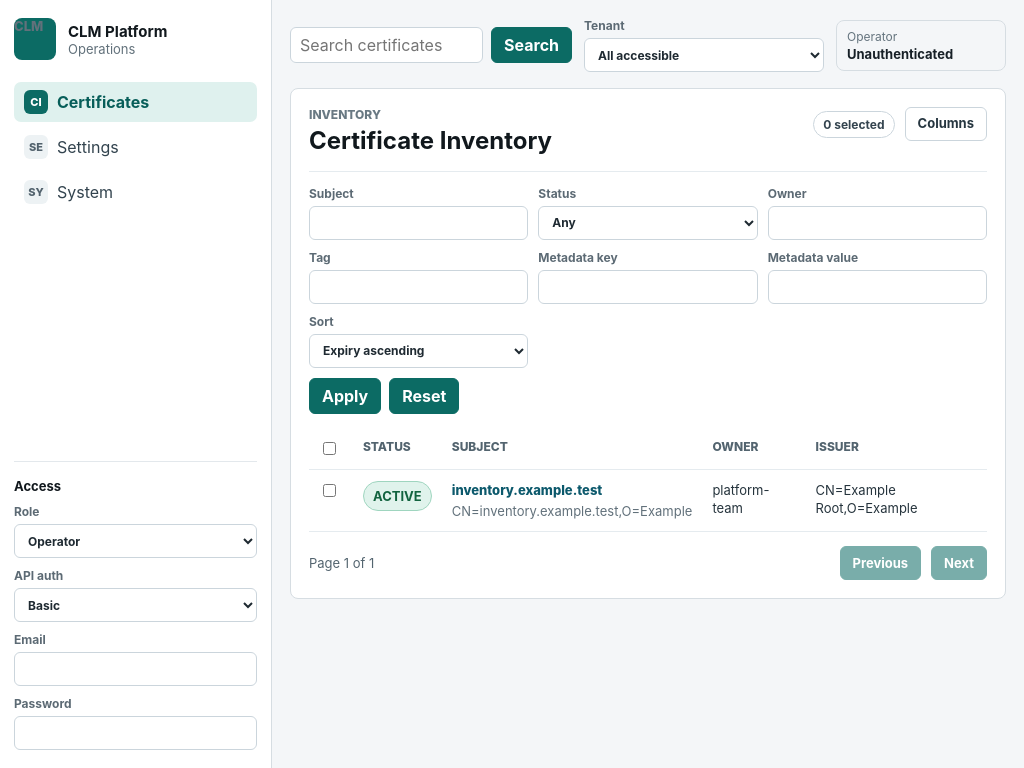
Test: App › applies inventory filters, sorting, pagination, and bulk selection
This screenshot has width=1024, height=768.
Check: the link "inventory.example.test" is shown, box left=452, top=481, right=602, bottom=499
Type "inventory" into the field labelled "Subject" at {"x": 419, "y": 223}, box left=309, top=206, right=528, bottom=240
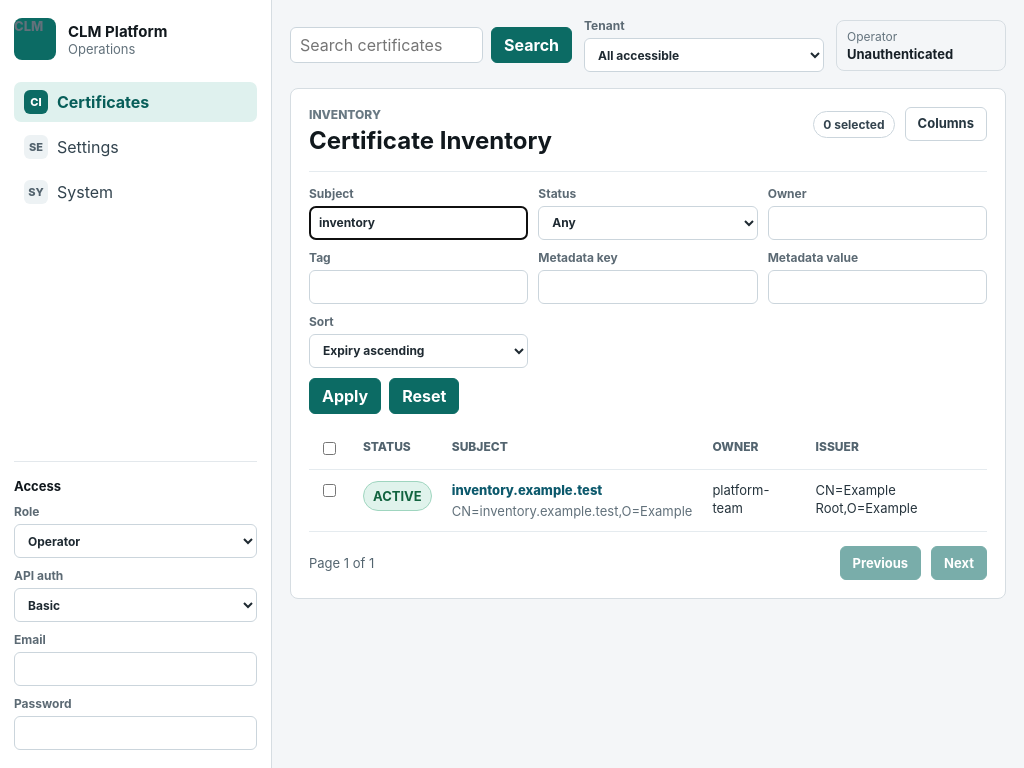
Select "Active" in the dropdown labelled "Status" at {"x": 648, "y": 223}, box left=538, top=206, right=758, bottom=240
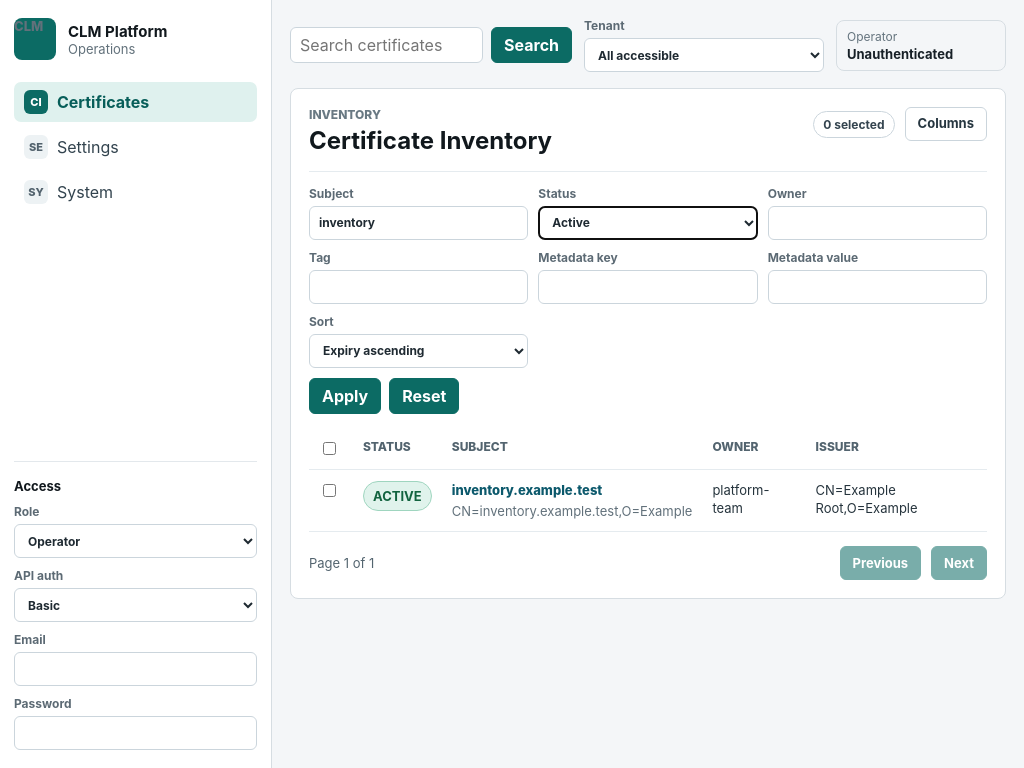
Type "prod" into the field labelled "Tag" at {"x": 419, "y": 287}, box left=309, top=270, right=528, bottom=304
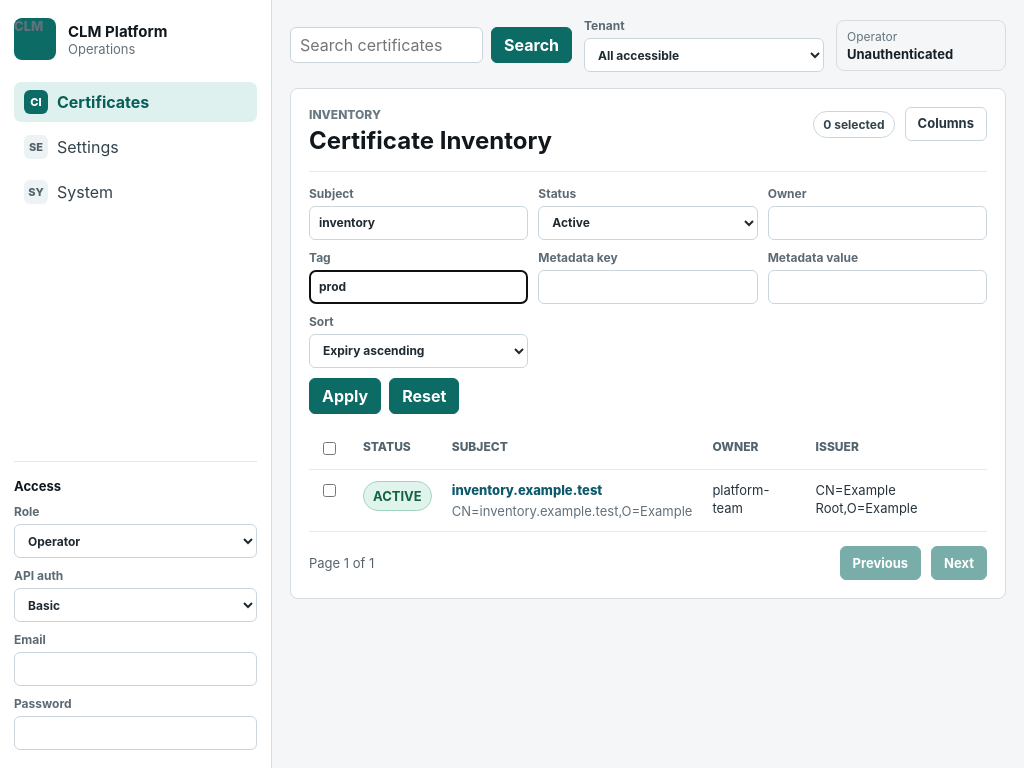
Select "Owner ascending" in the dropdown labelled "Sort" at {"x": 419, "y": 351}, box left=309, top=334, right=528, bottom=368
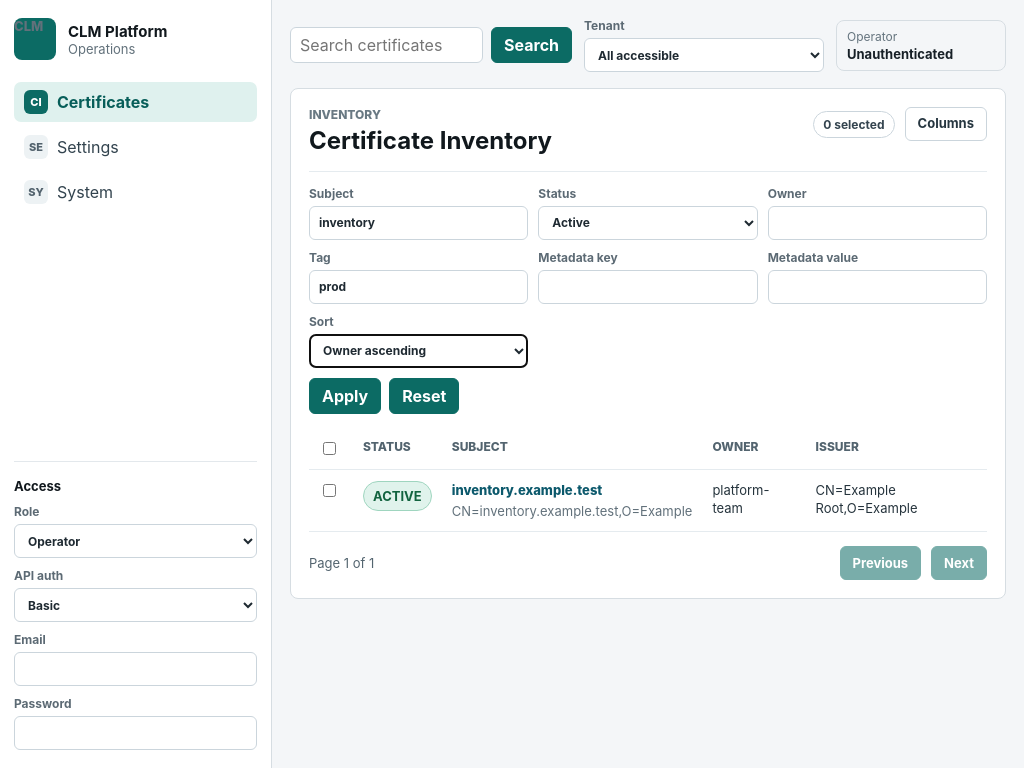
Click the button "Apply" at {"x": 345, "y": 396}, box left=309, top=378, right=381, bottom=414
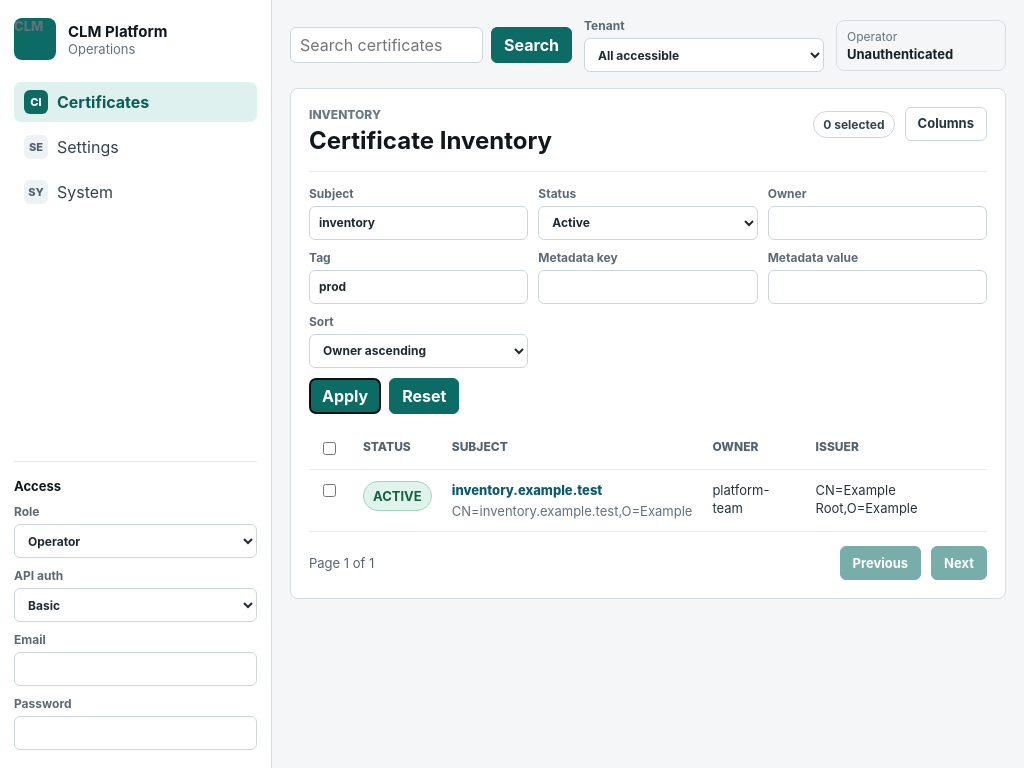
Click the checkbox named "select all certificates on this page" at {"x": 330, "y": 448}, box left=323, top=442, right=336, bottom=455
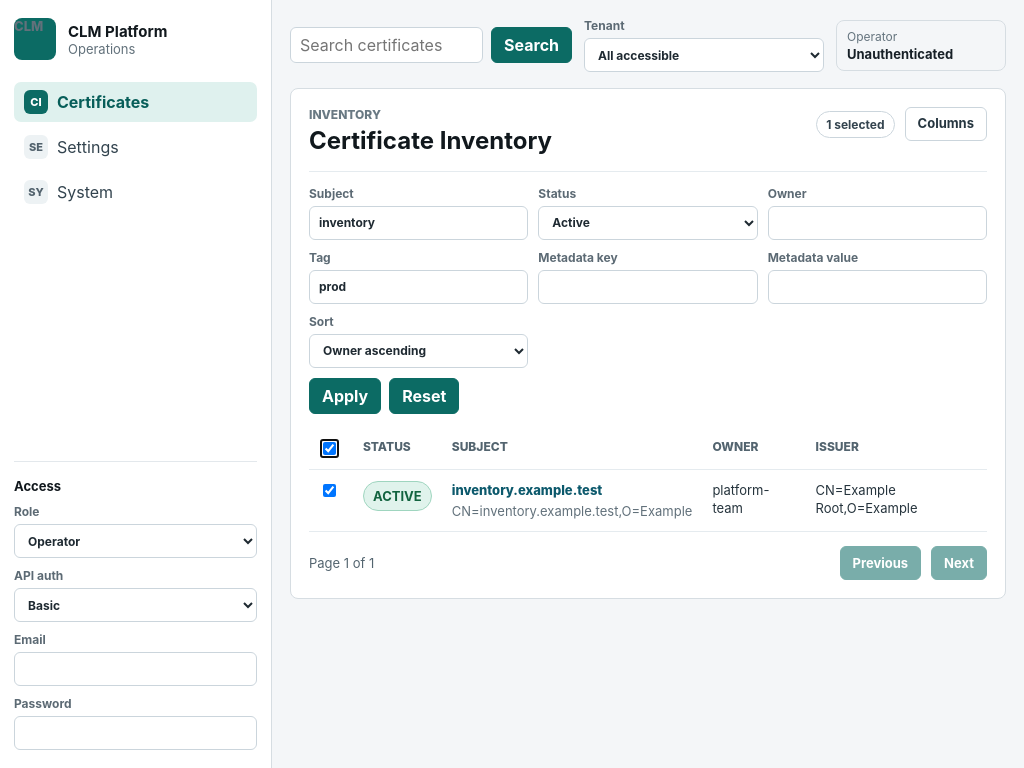
Check: the text "1 selected" is shown, box left=816, top=110, right=895, bottom=138
